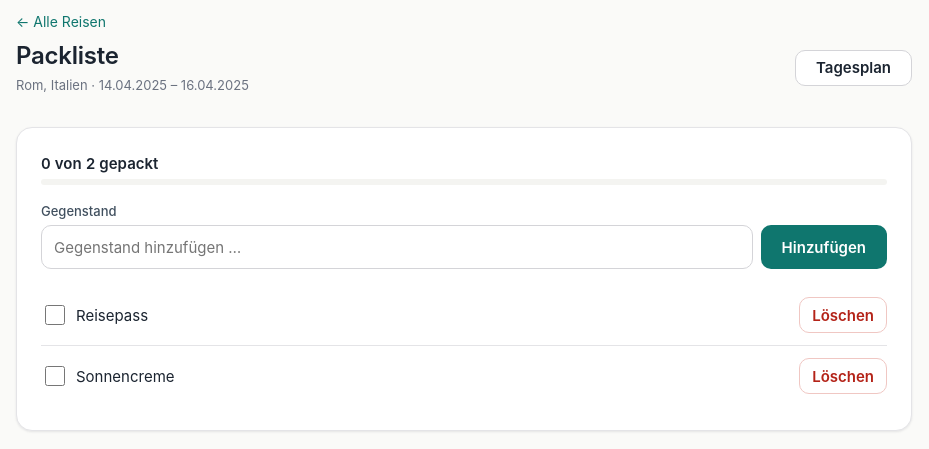
Test: PackingPage › toggles an item, updating the counter and the checked marker
Expected: the text "0 von 2 gepackt" is shown, [41,154,158,173]
Click the checkbox labelled "Reisepass". click: (55,315)
box: [45,305,65,325]
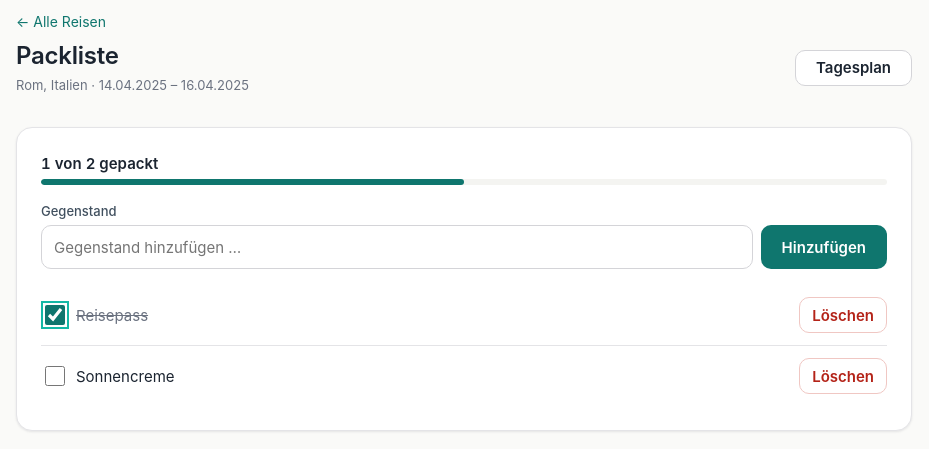
Now the text "1 von 2 gepackt" is shown, box [41,154,158,173]
Click the checkbox labelled "Reisepass". click: (55,315)
box: [45,305,65,325]
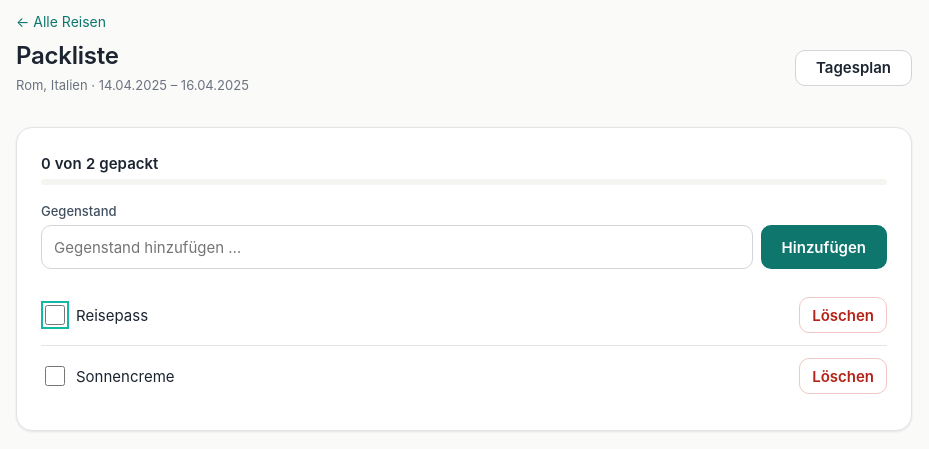
Now the text "0 von 2 gepackt" is shown, box [41,154,158,173]
